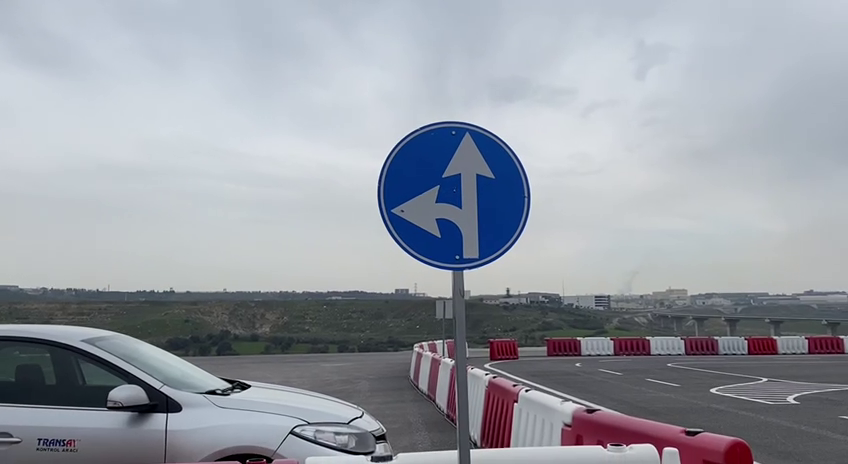forwardAndLeft: (372, 116, 536, 274)
